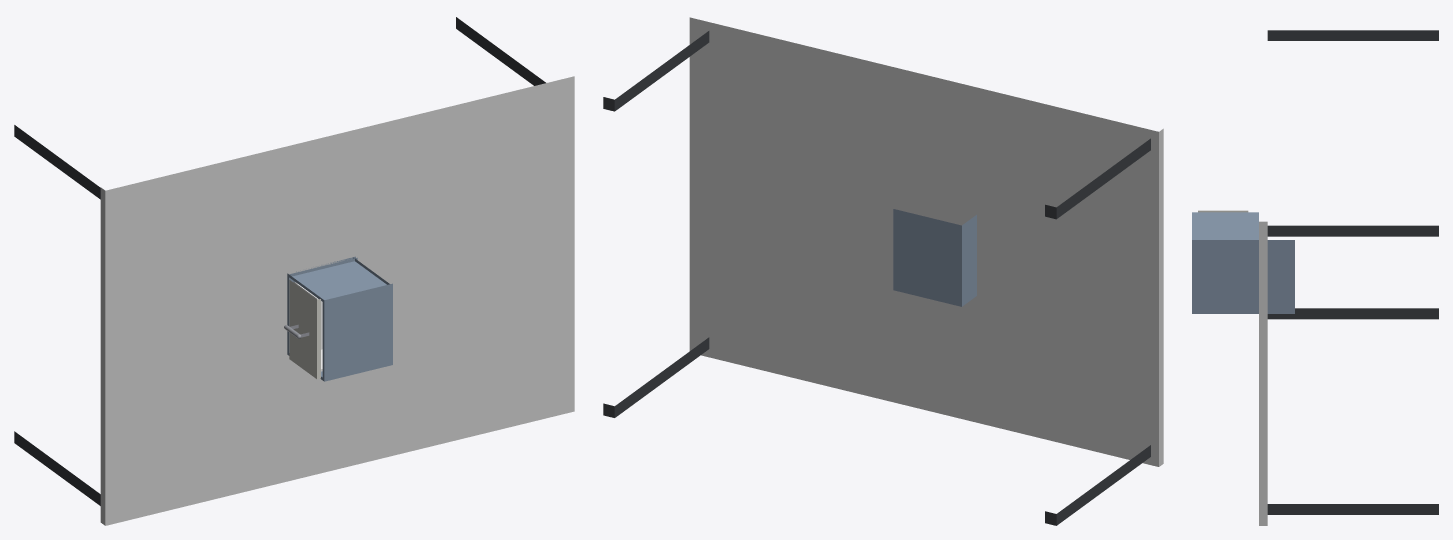
Rendered from t2_79bbf513c1.glb.
3 views of the same model, side by side, from view 1: azimuth 30°, elevation 25°; view 2: azimuth 150°, elevation 25°; view 3: azimuth 270°, elevation 25° (orthographic). The views are drawn at different scales.
Visible parts, largest first — view 1: s0, s1, s2; view 2: s0, s1; view 3: s0, s1.
Part boxes in pixels (bbox=[...]): s0: bbox=[14, 17, 574, 525]; s1: bbox=[287, 256, 392, 381]; s2: bbox=[284, 280, 322, 379]; s0: bbox=[603, 17, 1163, 525]; s1: bbox=[893, 209, 976, 306]; s0: bbox=[1259, 30, 1438, 525]; s1: bbox=[1192, 212, 1294, 313].
Size of the model in its own units: 2.05 by 1.4 by 1.03.
